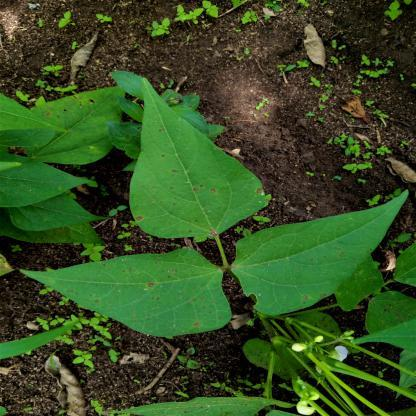Beans_Angular_LeafSpot: (126, 119, 266, 240), (239, 200, 392, 310), (58, 254, 230, 335)
